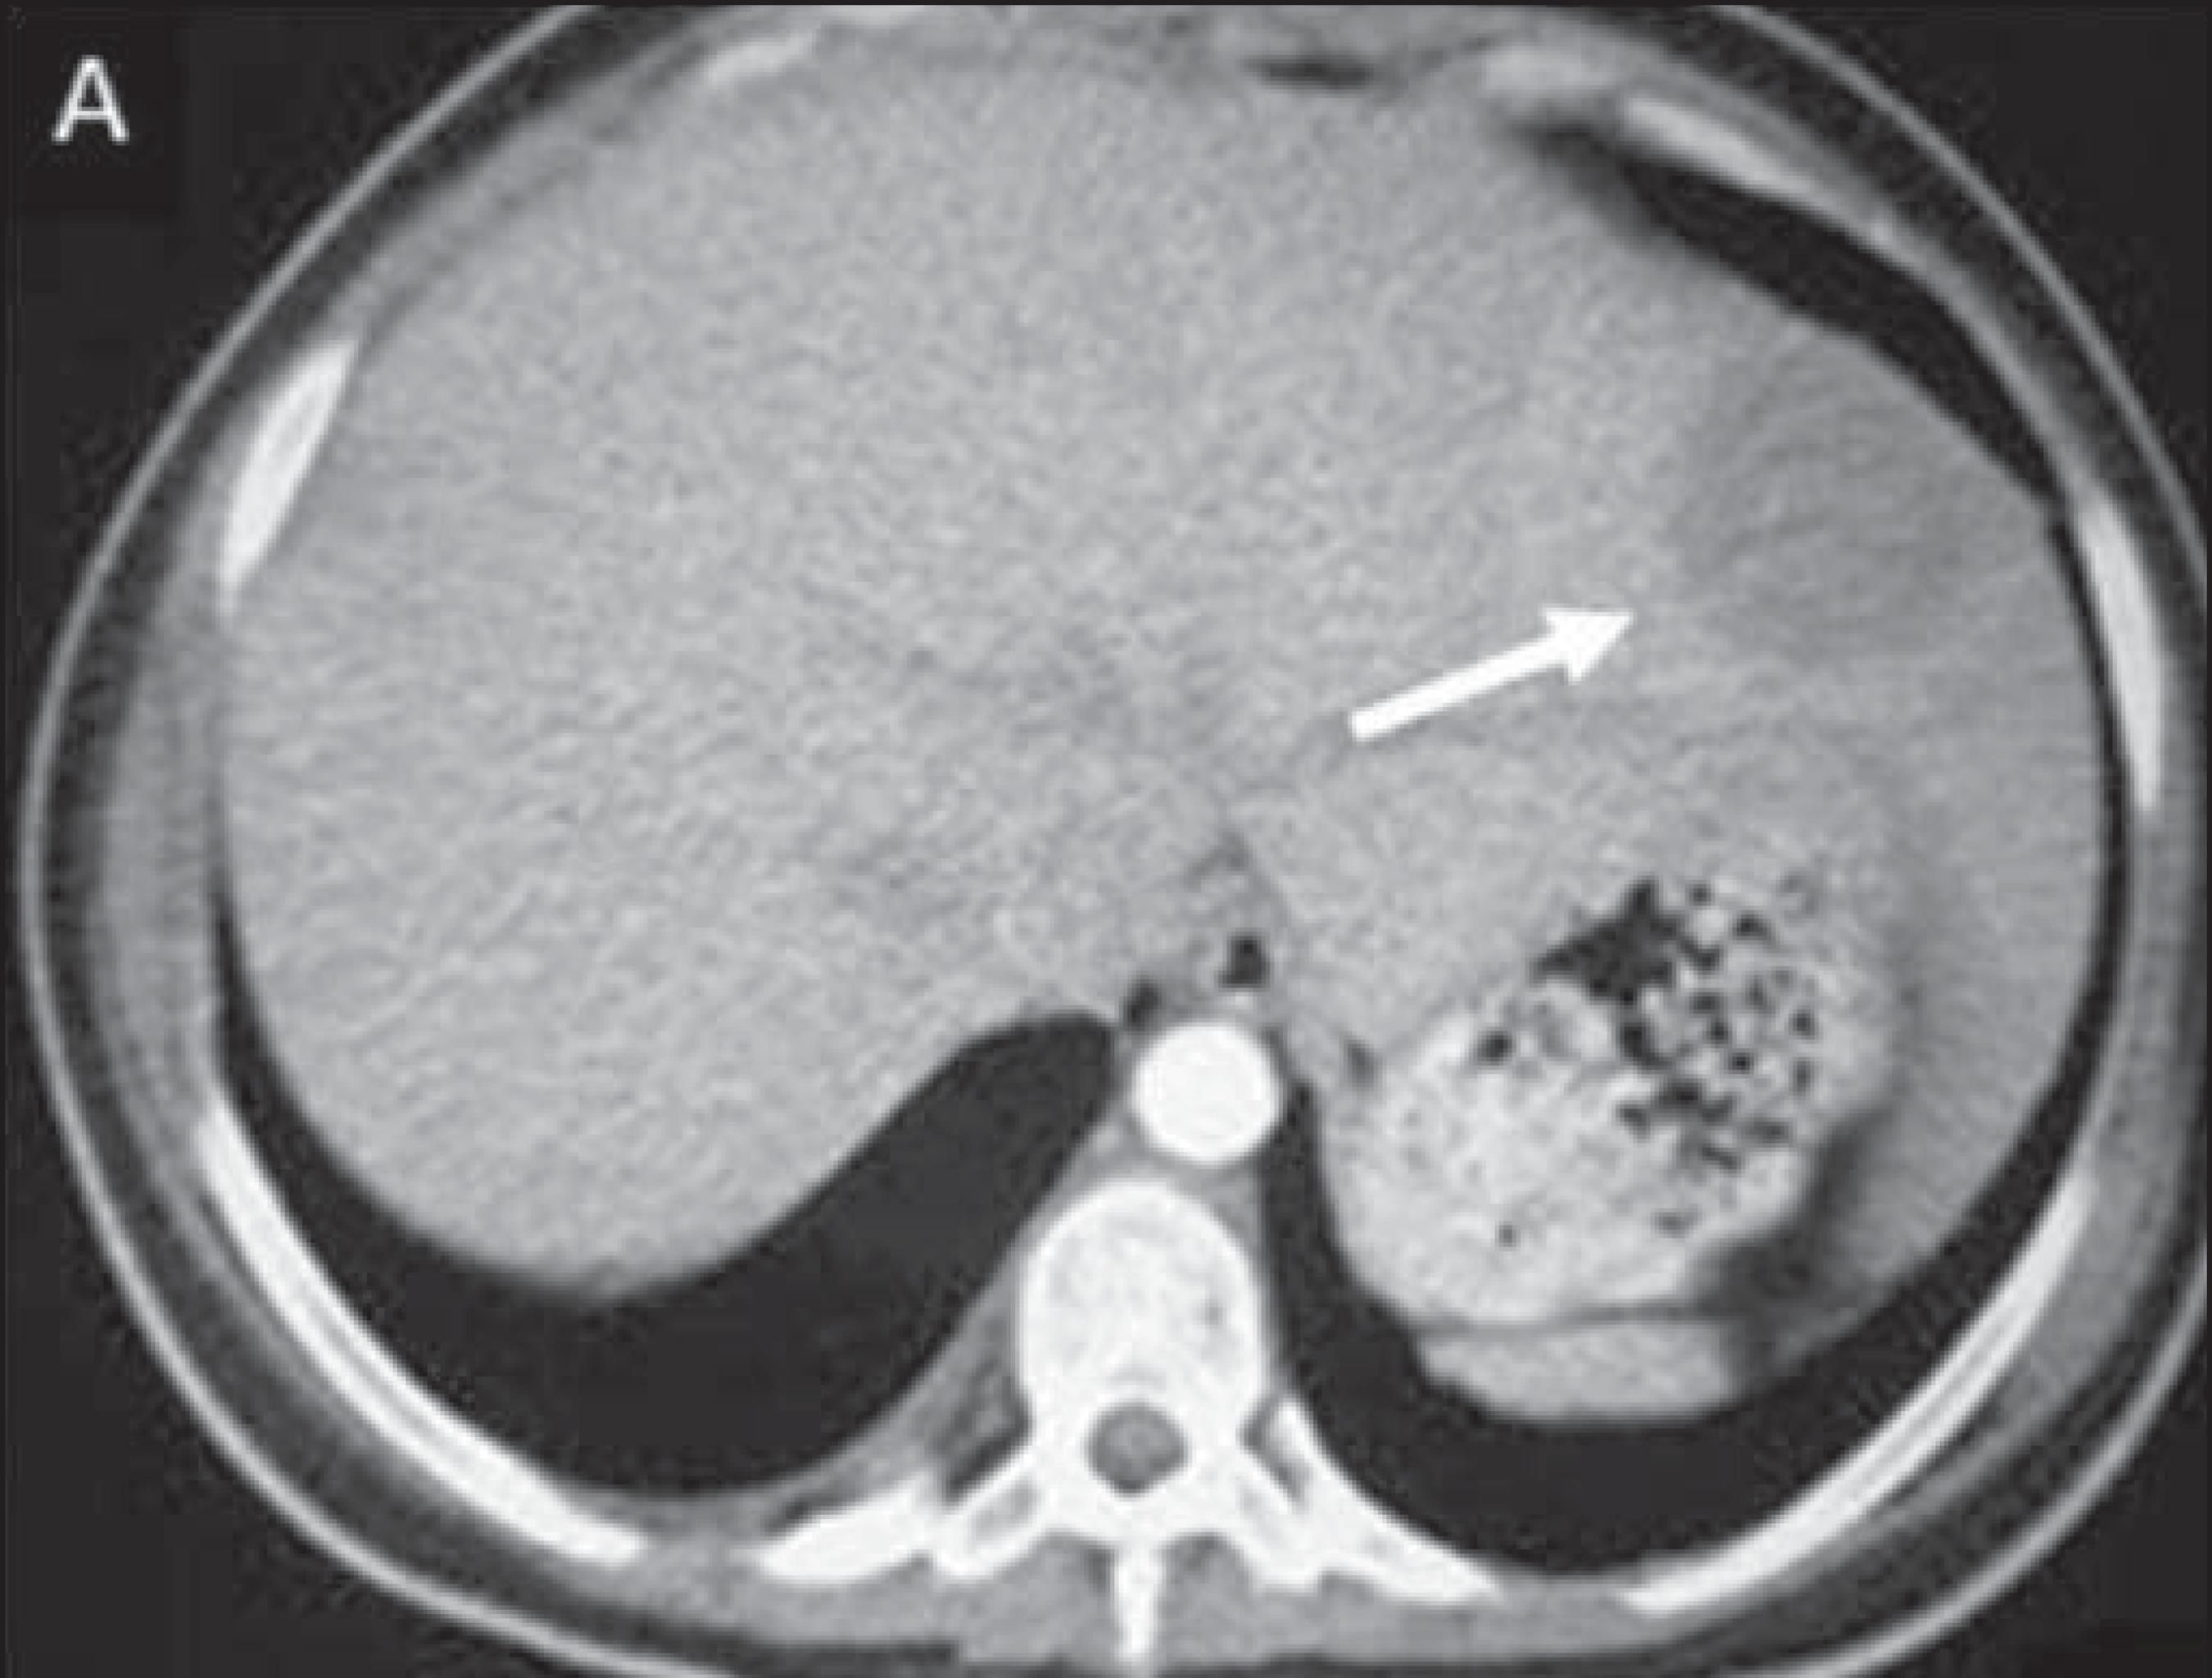anomaly: (1622, 356, 2041, 700)
